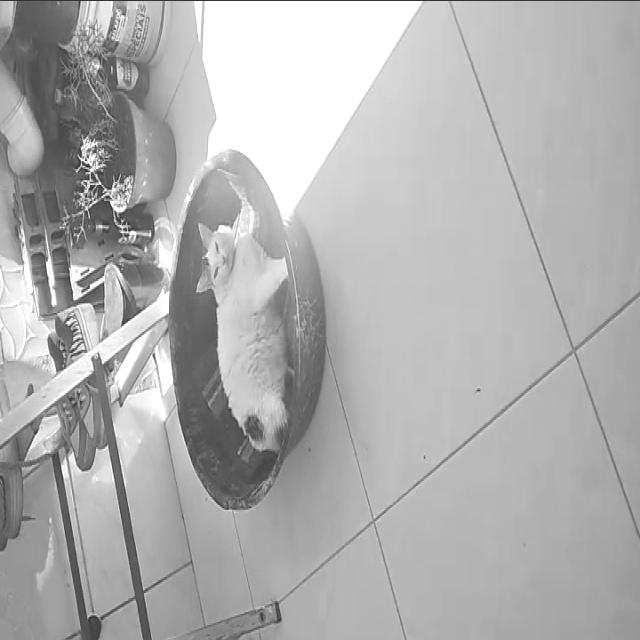Simba: (194, 151, 286, 451)
